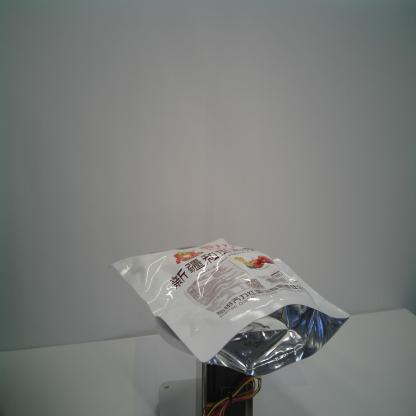Dried Food: (109, 237, 350, 376)
